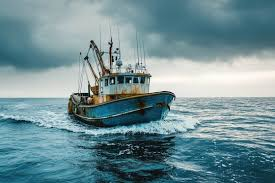boat: (66, 23, 176, 129)
